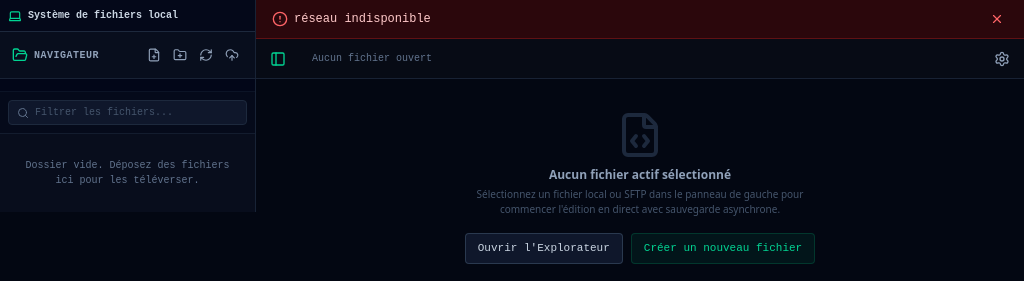
Test: MonacoFileEditor Component › affiche une erreur si l'arborescence ne charge pas, puis la ferme via le bouton X
The image size is (1024, 281).
Expected: the text "réseau indisponible" is shown, [272,11,431,27]
Click the button named "Fermer l'erreur" at (997, 19), box [986,8,1008,30]
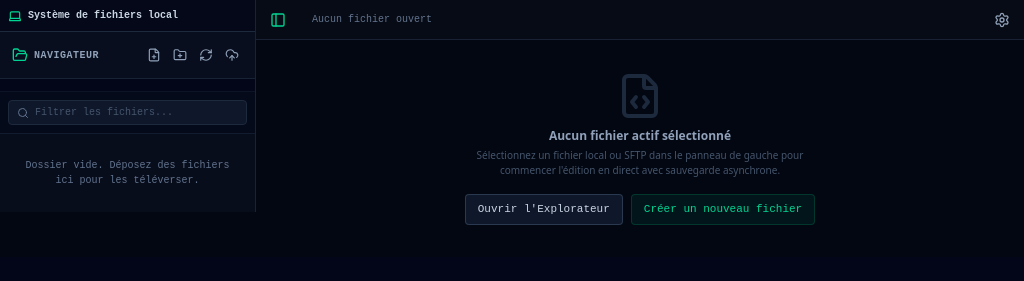
Expected: the text "réseau indisponible" is gone
